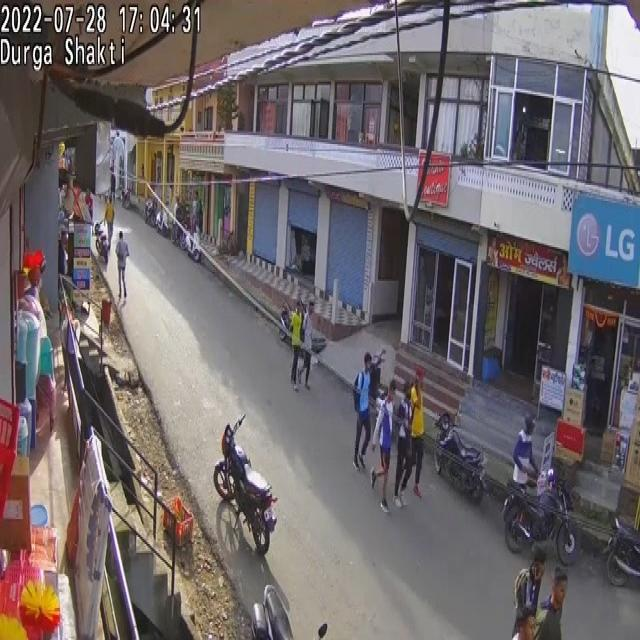non-fight: (369, 378, 395, 513), (392, 380, 414, 504), (533, 568, 567, 640), (514, 549, 546, 623), (354, 354, 374, 470), (512, 414, 539, 493), (289, 301, 305, 388), (116, 230, 129, 302), (104, 196, 115, 248), (191, 194, 201, 234), (110, 170, 116, 200)
